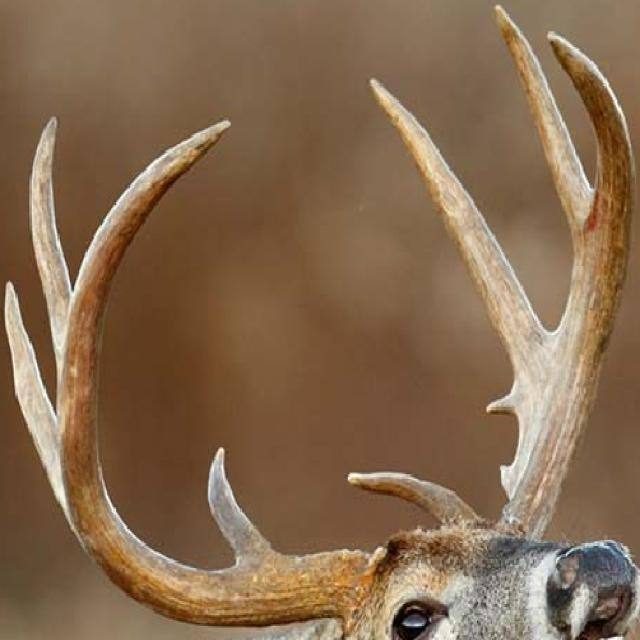L-G1: (345, 471, 494, 529)
L-G2: (483, 385, 516, 417)
L-G3: (365, 73, 552, 384)
L-G4: (492, 0, 594, 235)
L-R: (493, 29, 636, 541)
R-F: (61, 118, 374, 636)
R-G1: (206, 443, 285, 564)
R-G2: (3, 276, 81, 542)
R-G3: (27, 110, 73, 368)
